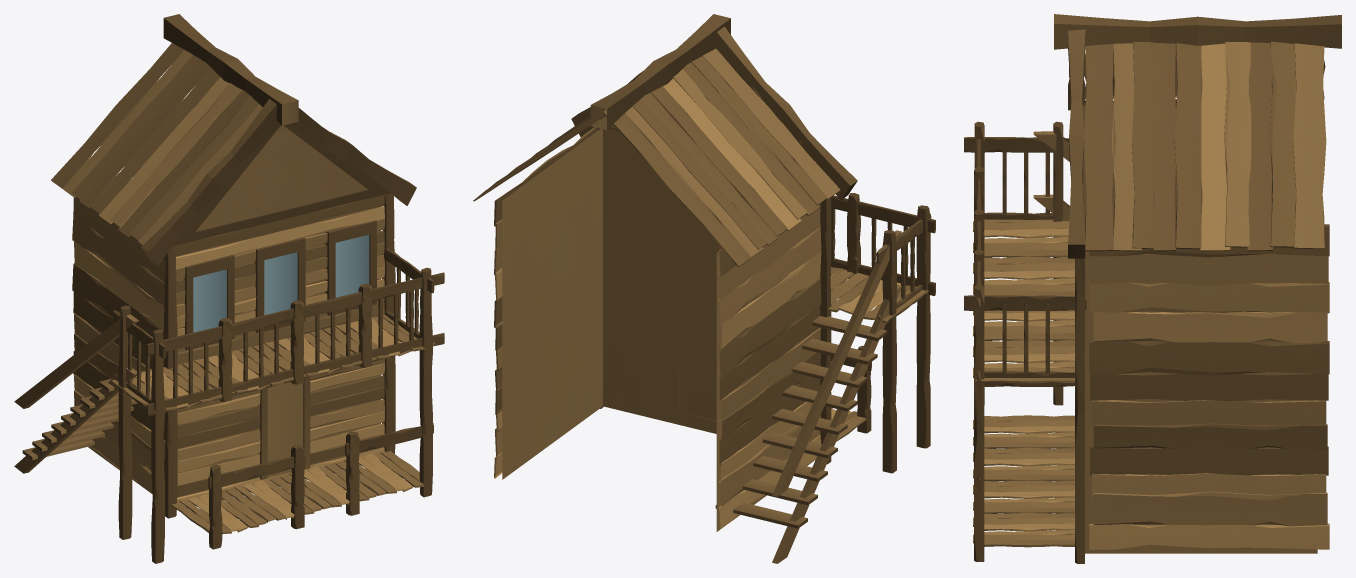
Rendered from Bâtiment_3.fbx.
3 views of the same model, side by side, from view 1: azimuth 30°, elevation 25°; view 2: azimuth 150°, elevation 25°; view 3: azimuth 270°, elevation 25° (orthographic). The views are drawn at different scales.
Visible parts, largest first — view 1: m_JS_Batiment2; view 2: m_JS_Batiment2; view 3: m_JS_Batiment2.
Boxes of the visible parts, x1,y1,x2,y2 form: m_JS_Batiment2: (14,14,444,563); m_JS_Batiment2: (473,14,935,563); m_JS_Batiment2: (964,14,1341,563).
Bounding box in the file's own units: 8.1 × 10.25 × 7.14.
